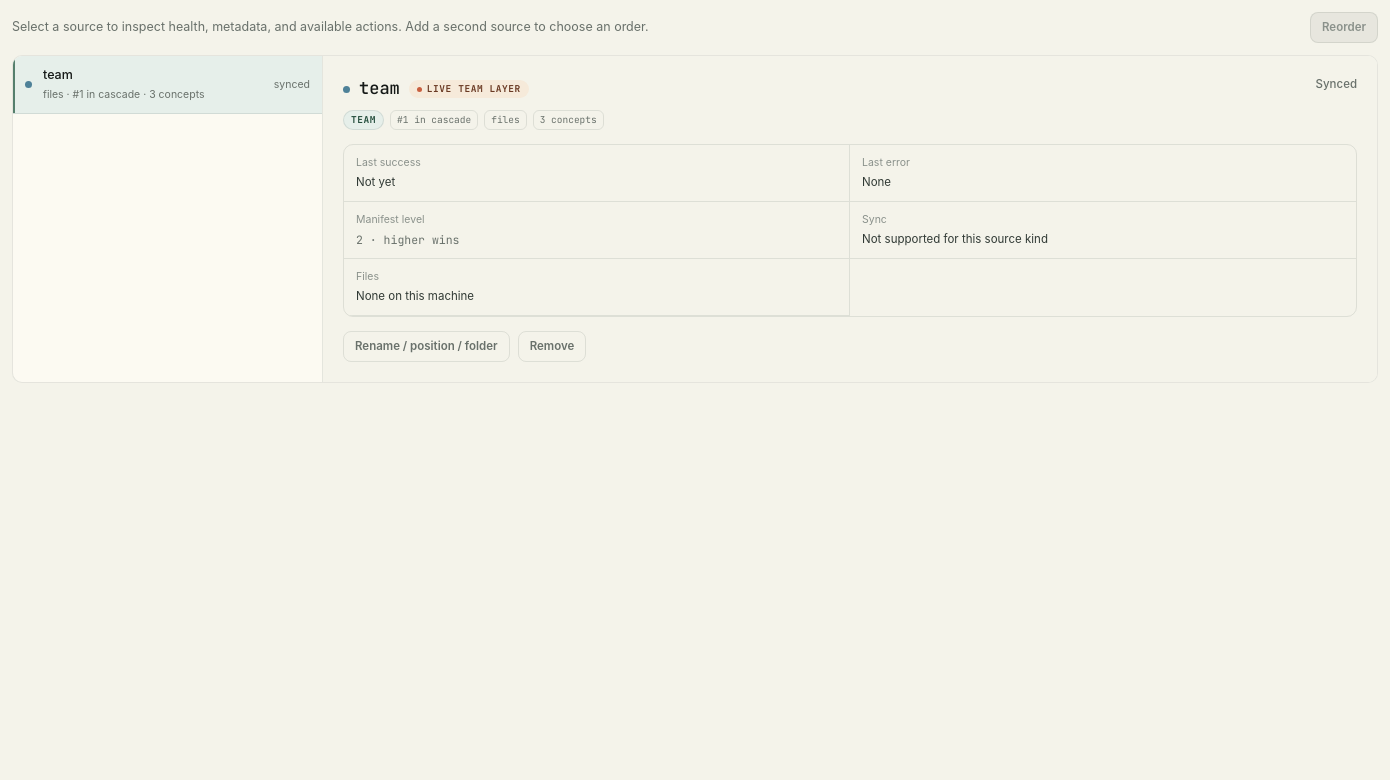
it: Sources rename + reposition › warns before renaming the live layer — staged captures fail closed
This screenshot has width=1390, height=780.
What coordinates should you click on to do the following:
click the button "Rename / position / folder"
I would click on:
 (426, 347)
Its box is [343,331,510,362].
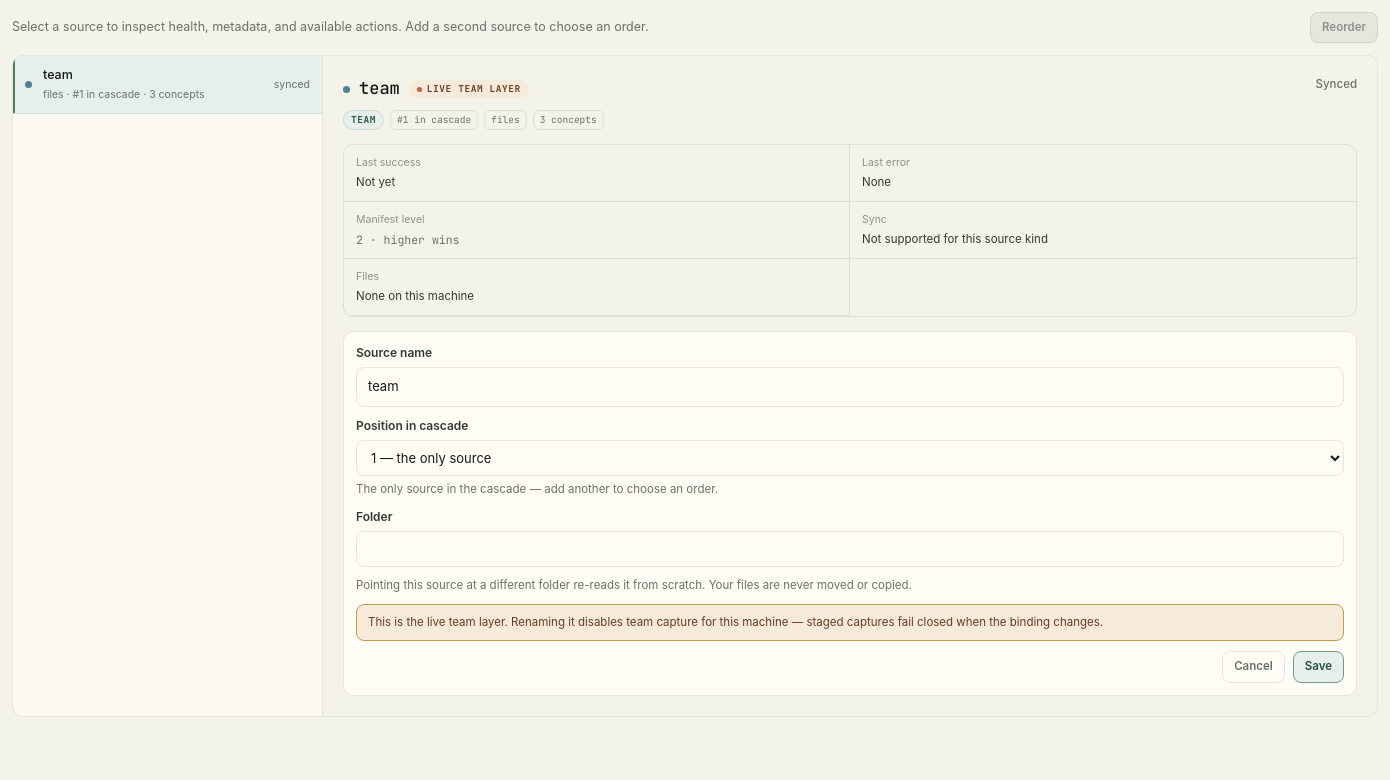
Result: the text "disables team capture for this machine" is shown at [565,615,788,629]
Result: the text "staged captures fail closed" is shown at [788,615,1103,629]
